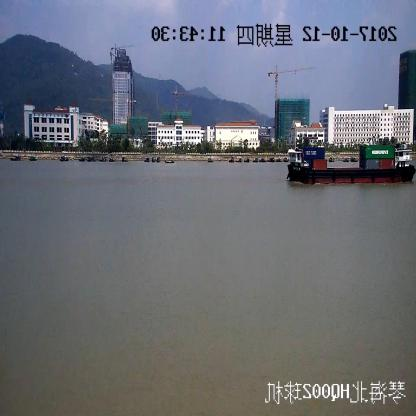Container Ship: (286, 145, 416, 184)
